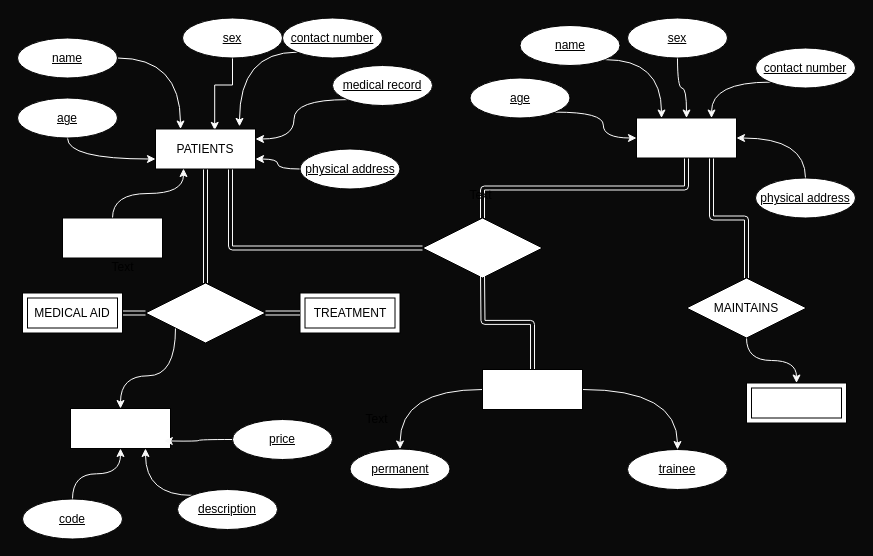
The diagram is 873 pixels wide and 556 high, and some of its shapes have lost their labels. Here are the shapes that lost their labels. From the top down, the box of each, then its label:
(636, 117, 736, 158): STAFF
(62, 217, 162, 258): MEDICAL RECORDS
(422, 217, 542, 278): ATTEND
(144, 282, 266, 343): BILLED FOR
(482, 368, 582, 410): DOCTORS
(746, 382, 846, 423): APPOINTMENTS
(70, 408, 170, 448): MEDICINE
